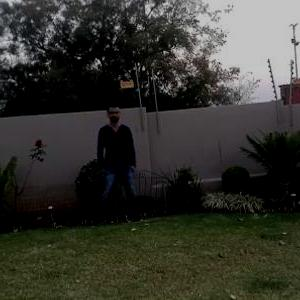follow: (94, 99, 141, 231)
